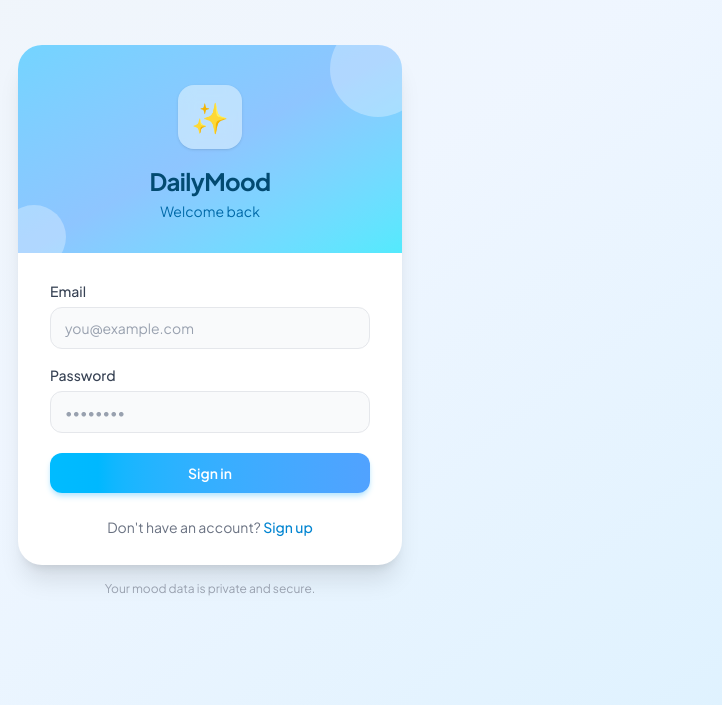
Test: LoginPage (integration) › clears the error when toggling between sign-in and sign-up
Step 1. Type "bad@example.com" into the field labelled "Email" → (210, 328), box [50,307,370,349]
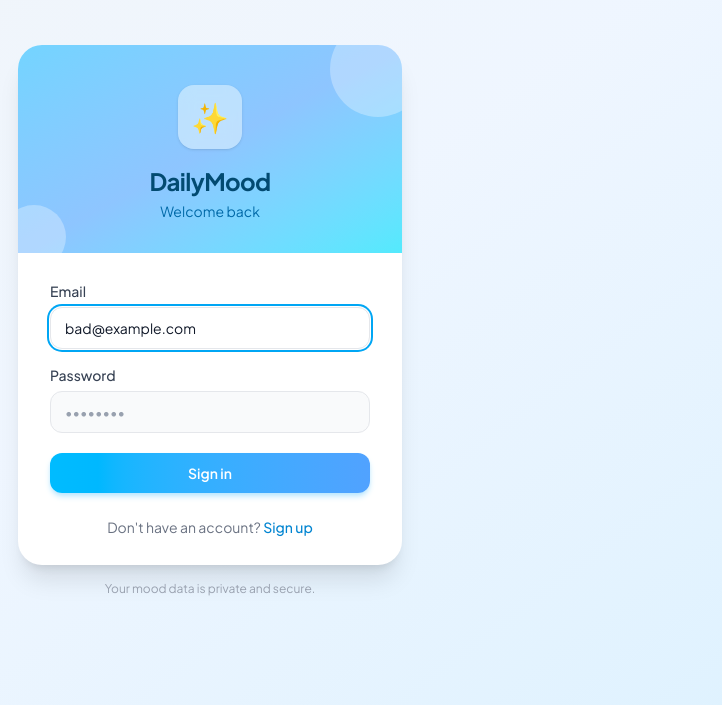
Step 2. Type "wrongpass" into the password field labelled "Password" → (210, 412), box [50,391,370,433]
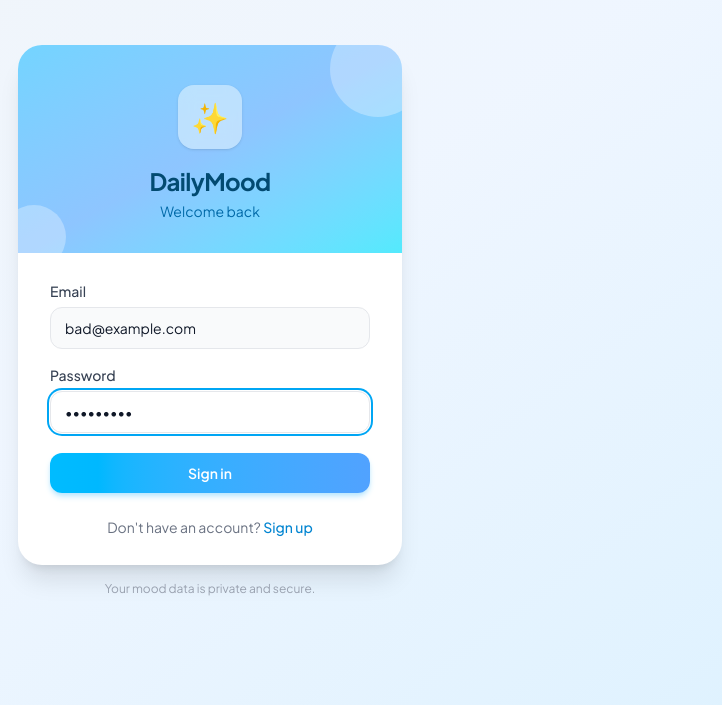
Step 3. Click the button "Sign in" → (210, 473), box [50,453,370,493]
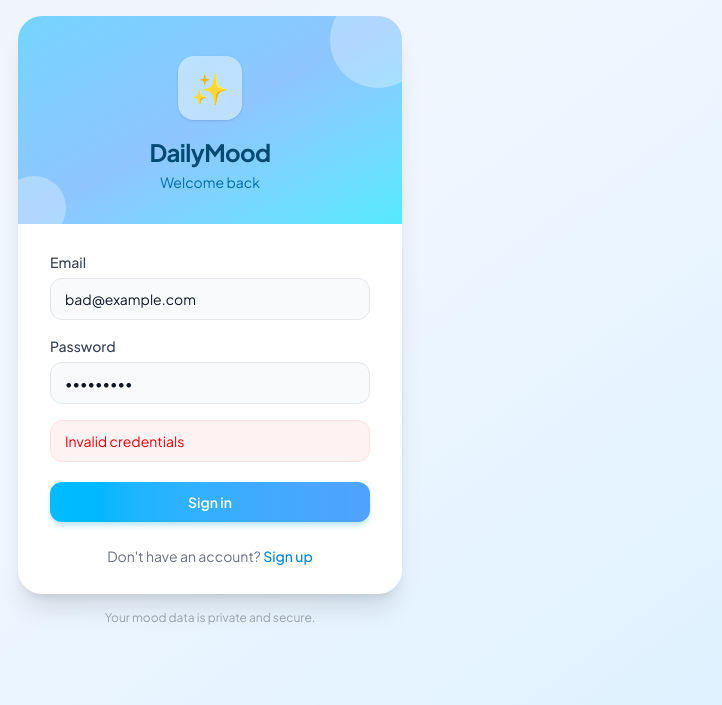
Expected: the message "Invalid credentials" is shown, [50,420,370,462]
Step 4. Click the button "Sign up" → (288, 556), box [263,546,313,566]
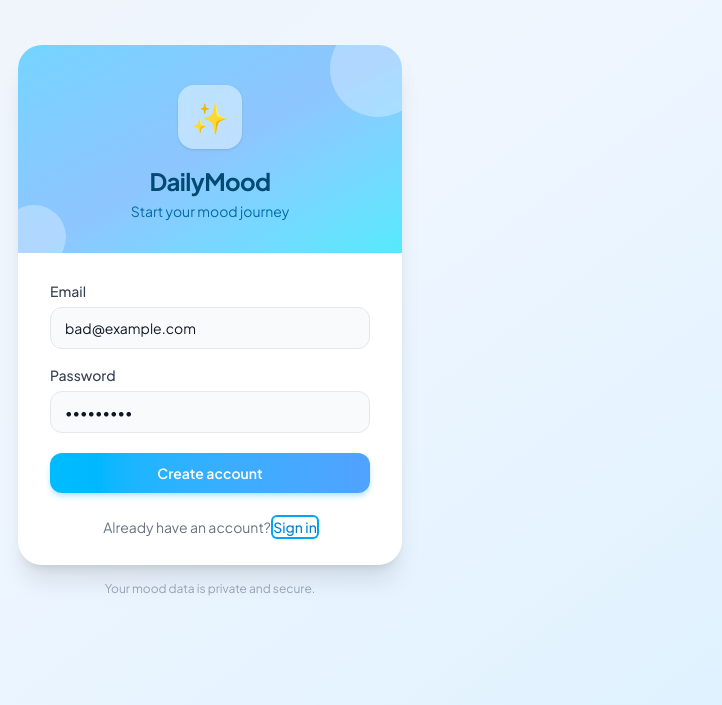
Expected: the message "Invalid credentials" is gone
